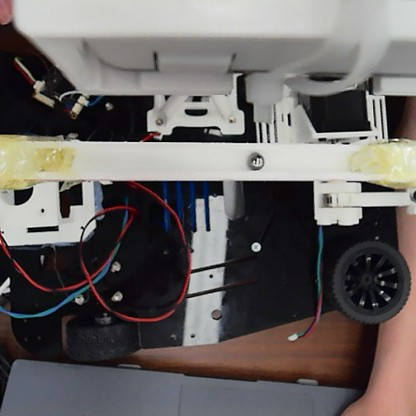ironball: (246, 149, 265, 170)
